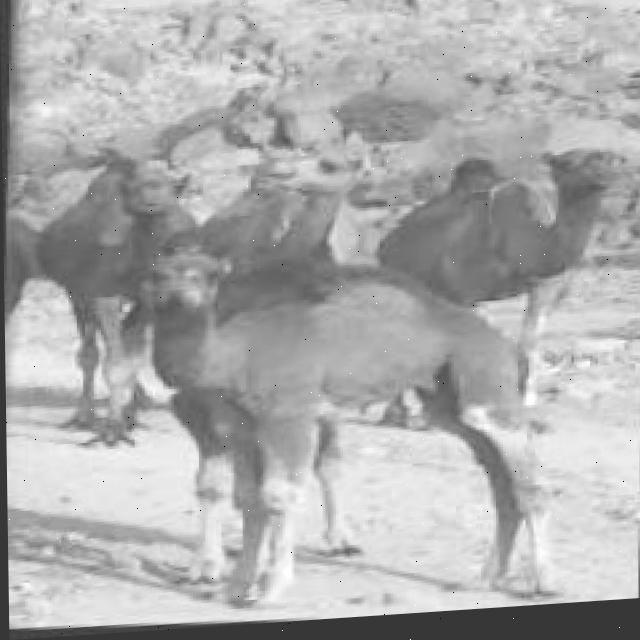Camel: (135, 219, 562, 621), (371, 140, 631, 439), (3, 142, 201, 440)
